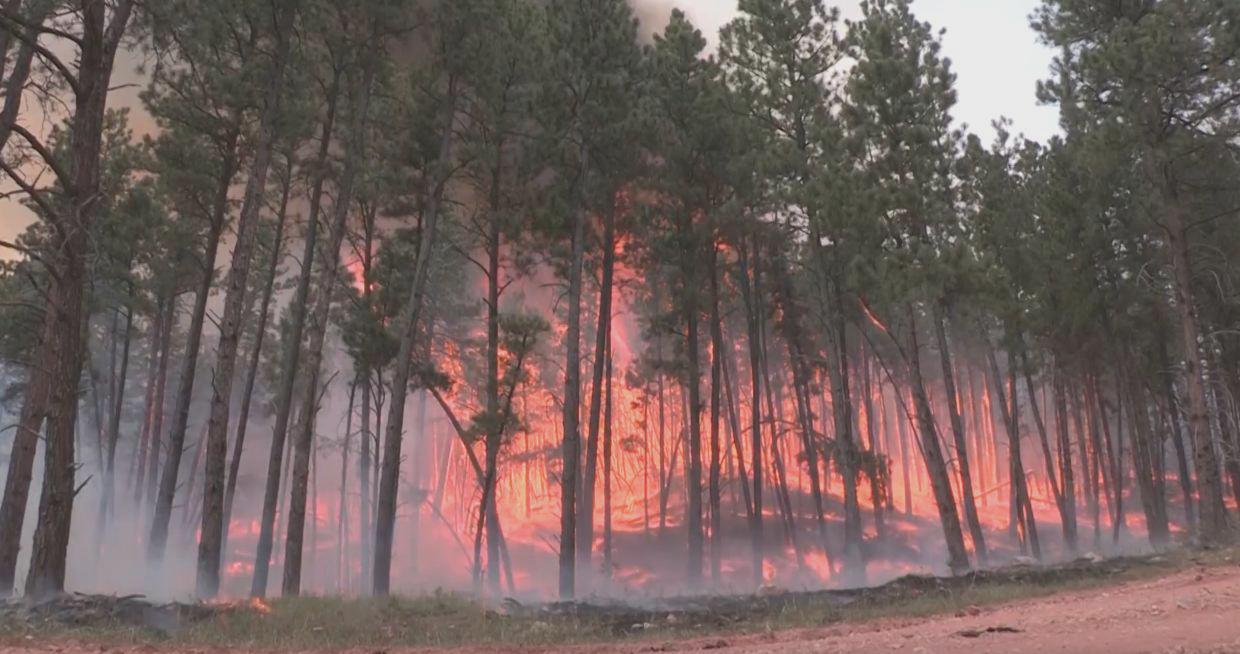Fire: (447, 326, 1198, 552), (194, 504, 284, 616)
